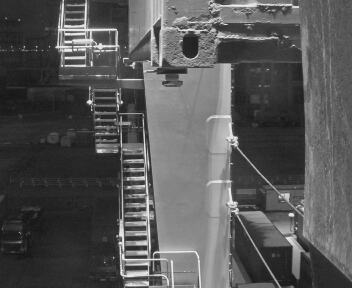twist_lock_1: (148, 60, 193, 93)
